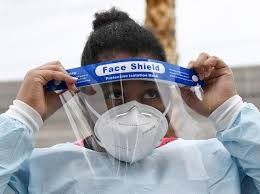Face_Shield: (47, 58, 207, 181)
with_mask: (93, 87, 174, 169)
